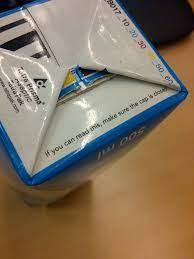cardboard: (0, 0, 187, 185)
